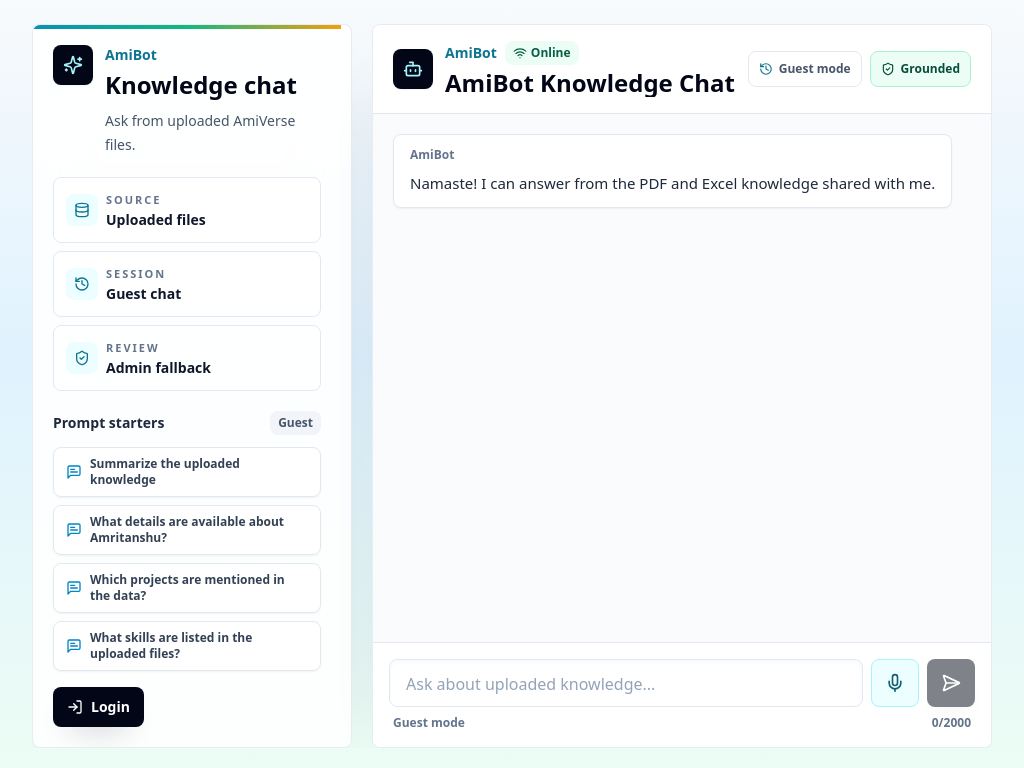
stopping while the response body is loading preserves the stopped status
Type "When will the next project launch?" into the text box named "type your message". click: (626, 683)
box: [389,659,863,707]
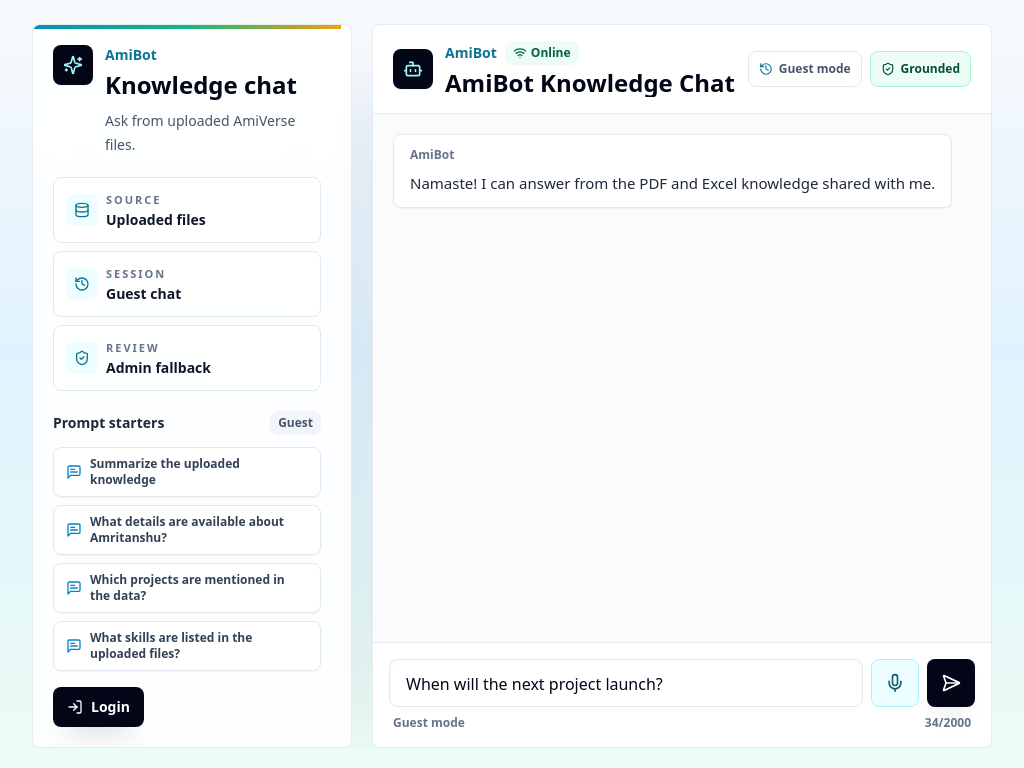
Click the button named "send message". click: click(951, 683)
box: [927,659,975,707]
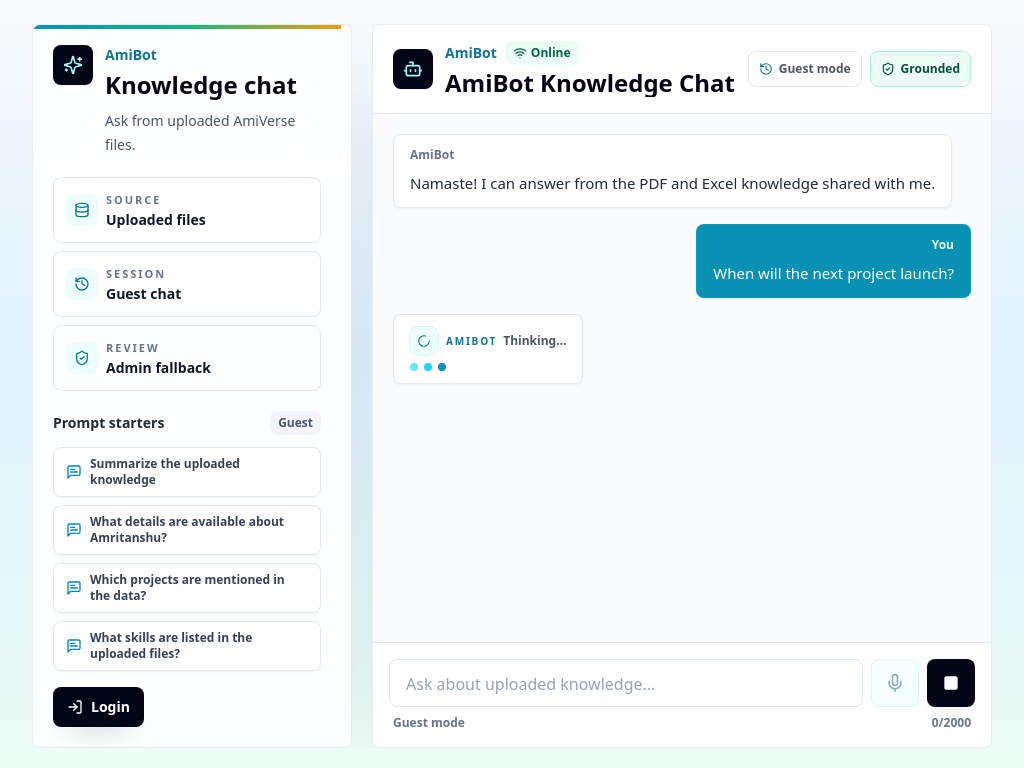
Click the button named "stop response". click: click(951, 683)
box: [927,659,975,707]
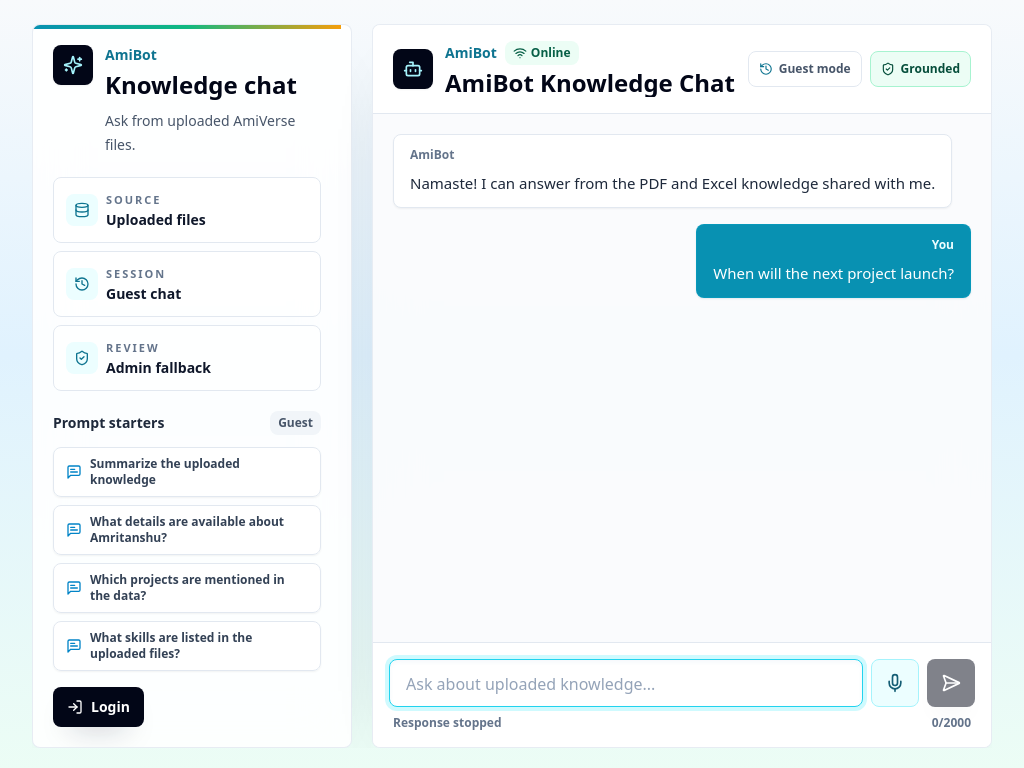
Expected: the text "Response stopped" is shown, [393,715,502,731]
